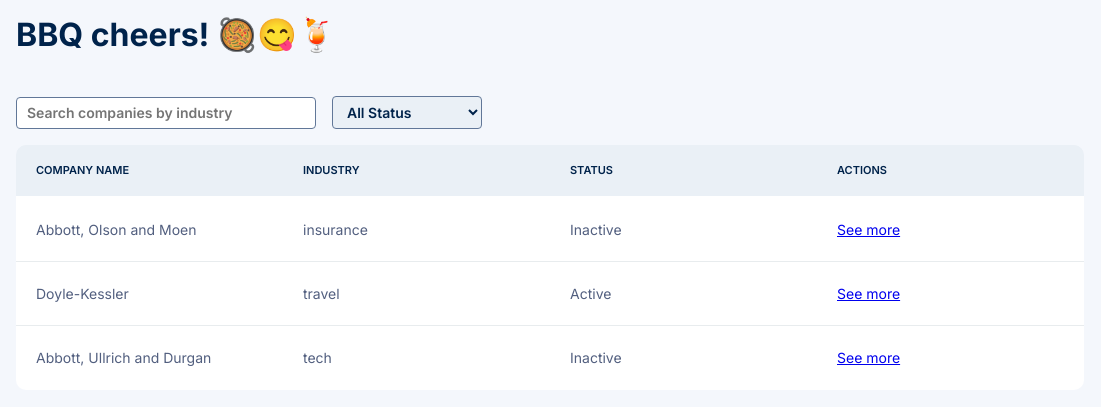
Scenario: Home page › when filtering data › should returns `No results` if filter do not have a corresponding value
Expected: the text "Abbott, Olson and Moen" is shown, [16,198,283,262]
Expected: the text "Doyle-Kessler" is shown, [16,262,283,326]
Type in the search input
Type "consulting" into the search field. click: (166, 113)
box: [16,97,316,129]
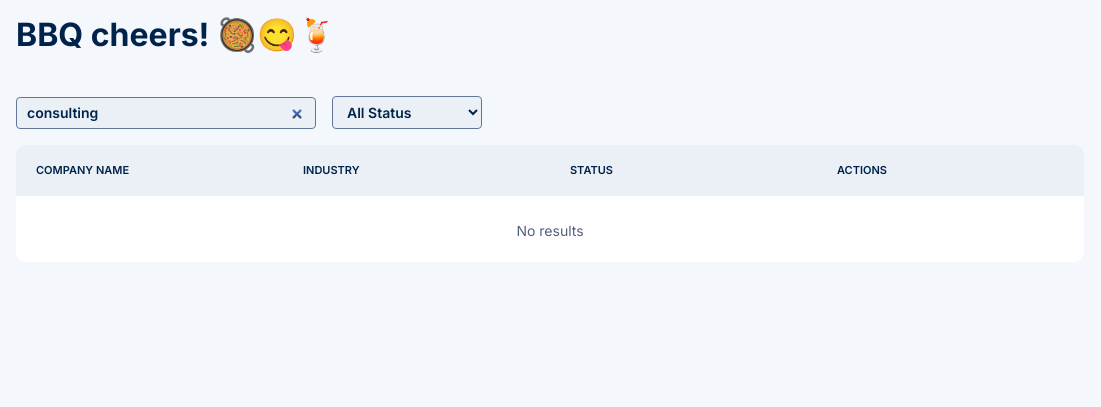
Now the text "Abbott, Olson and Moen" is gone
Now the text "Doyle-Kessler" is gone
Now the text "Abbott, Ullrich and Durgan" is gone
